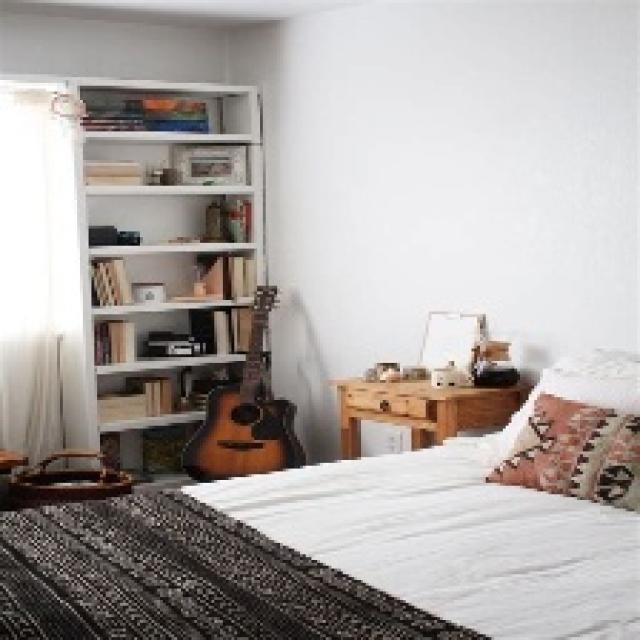Bed: (0, 346, 637, 637)
